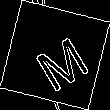M_NW: (22, 22, 88, 88)
